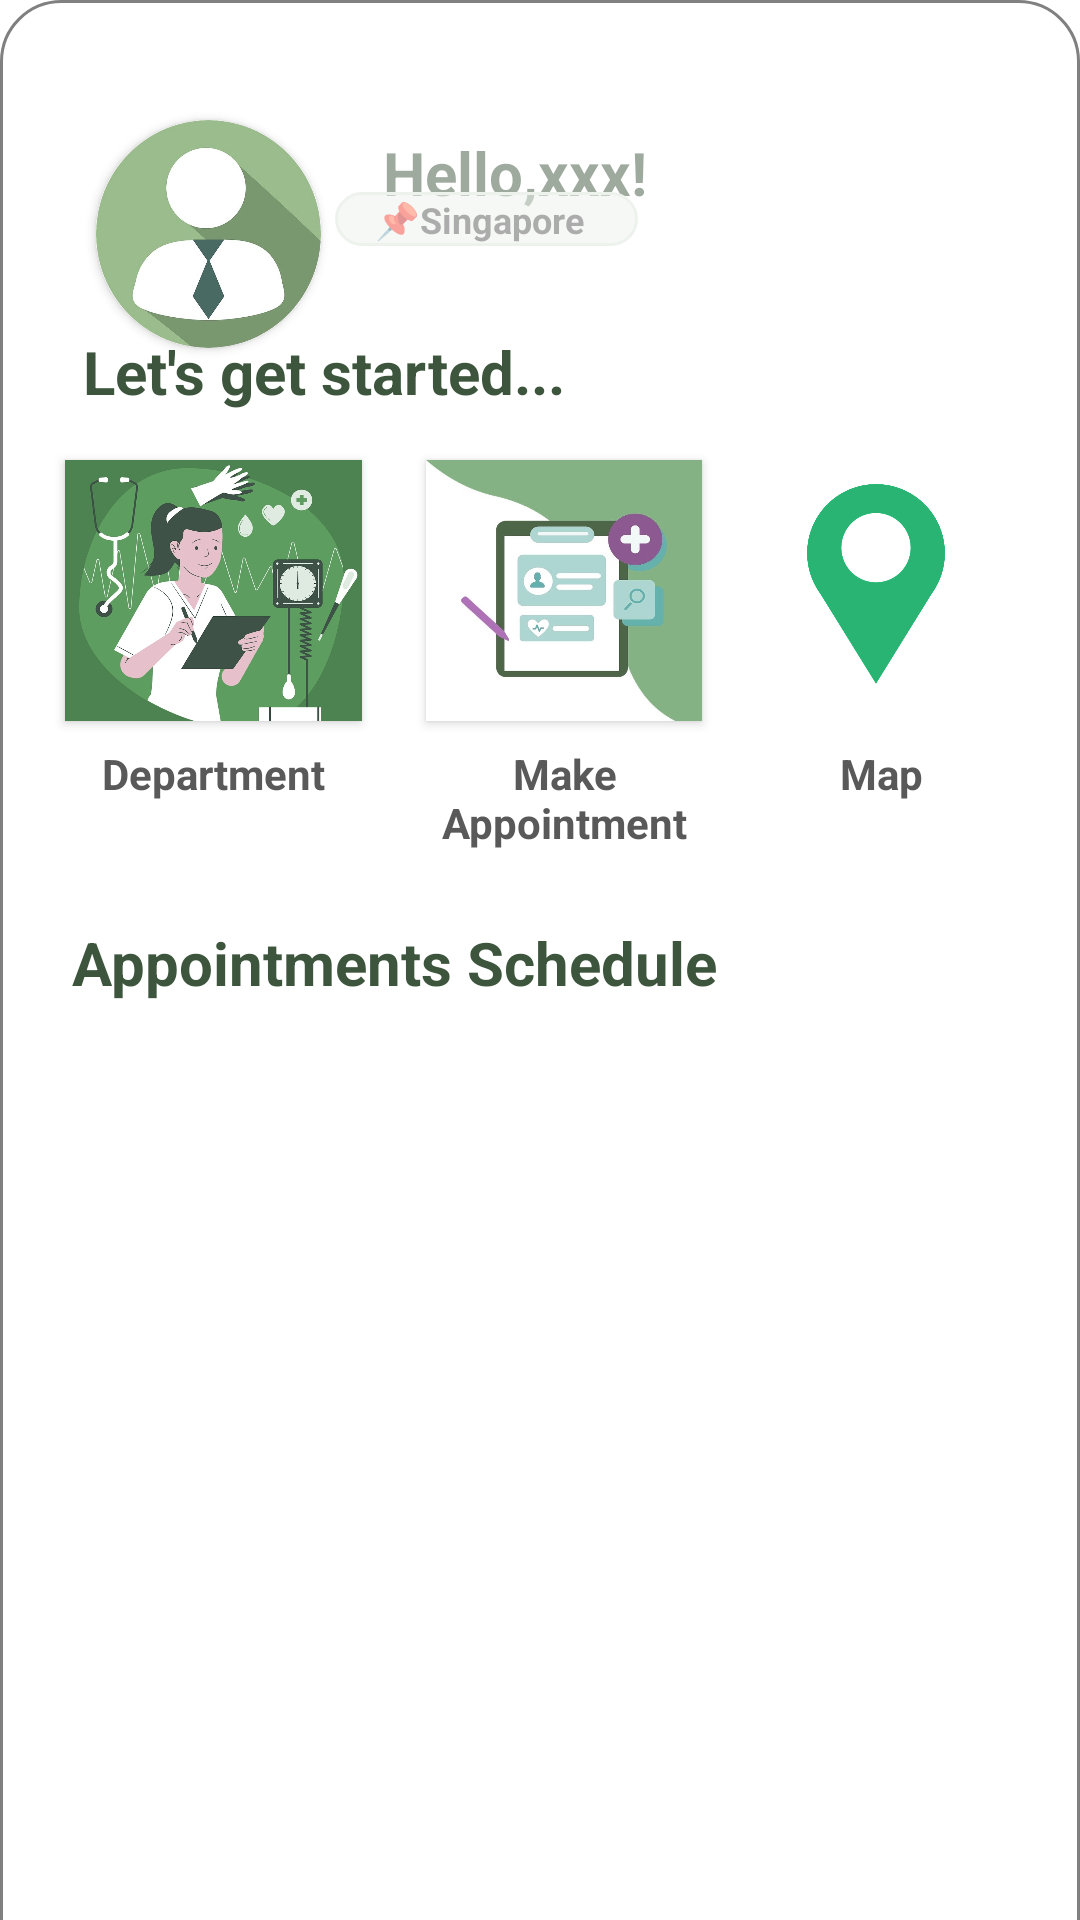

Icons on this 1080w x 1920h Android screen, each with its box as (x1, y1, x2, y2):
patiet: (96, 120, 321, 348)
